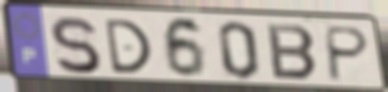0: (216, 19, 264, 83)
6: (160, 15, 210, 82)
B: (264, 22, 320, 83)
D: (102, 17, 154, 76)
P: (324, 24, 373, 83)
S: (47, 14, 103, 76)
